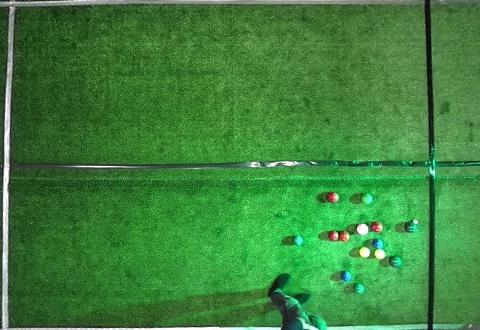blue: (372, 239, 383, 249), (341, 271, 351, 281)
green: (361, 193, 373, 204), (389, 256, 401, 267), (353, 283, 364, 294), (404, 222, 416, 232), (292, 236, 303, 246)
red: (356, 223, 369, 235), (371, 221, 383, 233), (327, 192, 339, 203), (339, 231, 350, 242), (328, 231, 339, 241)
vline: (424, 0, 479, 329), (0, 0, 17, 329)
white: (413, 220, 418, 224)
yellow: (374, 249, 386, 260), (359, 247, 370, 258)
